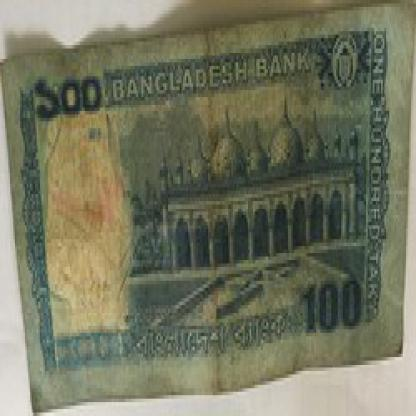one hundred taka: (30, 73, 113, 132), (300, 270, 366, 336)
